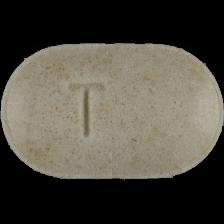51672-4045: (0, 0, 224, 224)
